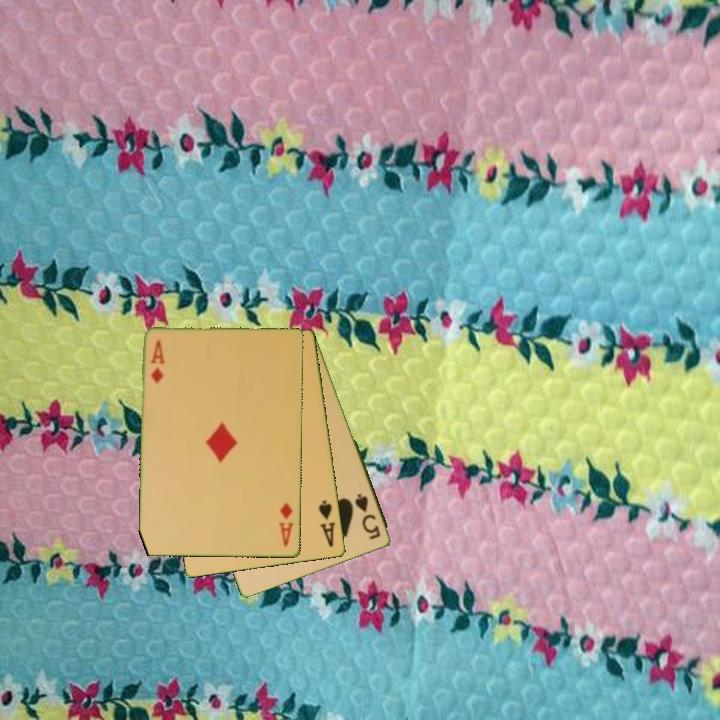5s: (351, 490, 384, 543)
Ad: (276, 499, 297, 550), (147, 337, 167, 387)
As: (315, 497, 338, 550)
